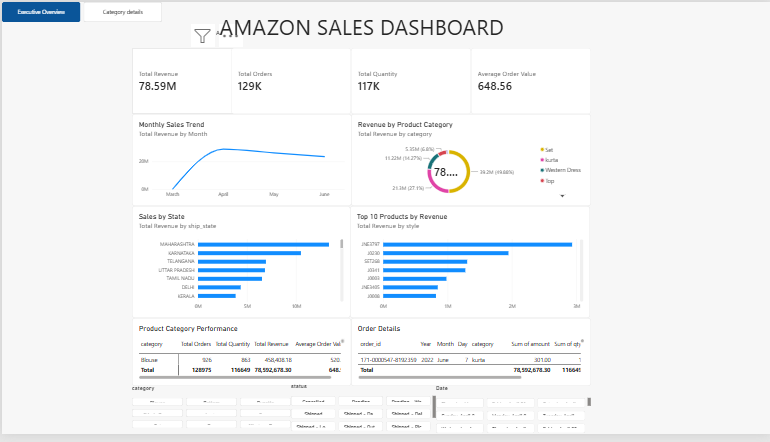

What the dashboard file says about the page in this screenshot:
{"tool":"powerbi","page":{"name":"Page 1","canvas":[1920,1080],"ordinal":0},"visuals":[{"type":"cardVisual","fields":{"Data":["Amazon_Sale_Cleaned.Total Revenue"]},"box":[325,115,280,165],"z":0},{"type":"cardVisual","fields":{"Data":["Amazon_Sale_Cleaned.Total Orders"]},"box":[572.5,115,300,165],"z":1000},{"type":"cardVisual","fields":{"Data":["Amazon_Sale_Cleaned.Total Quantity"]},"box":[872.5,115,300,165],"z":2000},{"type":"cardVisual","fields":{"Data":["Amazon_Sale_Cleaned.Average Order Value"]},"box":[1172.5,115,300,165],"z":3000},{"type":"clusteredBarChart","title":"Revenue by Product Category","fields":{"Category":["Amazon_Sale_Cleaned.category"],"Y":["Amazon_Sale_Cleaned.Total Revenue"]},"box":[325,510,547.5,280],"z":4000},{"type":"lineChart","title":"Monthly Sales Trend","fields":{"Category":["Amazon_Sale_Cleaned.date.Variation.Date Hierarchy.Month"],"Y":["Amazon_Sale_Cleaned.Total Revenue"]},"box":[325,280,1147.5,230],"z":4001},{"type":"donutChart","title":"Order Status Distribution","fields":{"Category":["Amazon_Sale_Cleaned.status"],"Y":["Amazon_Sale_Cleaned.Total Orders"]},"box":[872.5,510,600,280],"z":4002},{"type":"tableEx","title":"Order Details","fields":{"Values":["Amazon_Sale_Cleaned.order_id","Amazon_Sale_Cleaned.date.Variation.Date Hierarchy.Year","Amazon_Sale_Cleaned.date.Variation.Date Hierarchy.Month","Amazon_Sale_Cleaned.date.Variation.Date Hierarchy.Day","Amazon_Sale_Cleaned.category","Sum(Amazon_Sale_Cleaned.amount)","Sum(Amazon_Sale_Cleaned.qty)","Amazon_Sale_Cleaned.status"]},"box":[872.5,790,600,170],"z":4003},{"type":"pivotTable","title":"Product Category Performance","fields":{"Rows":["Amazon_Sale_Cleaned.category"],"Values":["Amazon_Sale_Cleaned.Total Orders","Amazon_Sale_Cleaned.Total Quantity","Amazon_Sale_Cleaned.Total Revenue","Amazon_Sale_Cleaned.Average Order Value"]},"box":[325,790,547.5,170],"z":4004},{"type":"advancedSlicerVisual","fields":{"Label":["CountNonNull(Amazon_Sale_Cleaned.date.Variation.Date Hierarchy.Year)"],"Values":["Amazon_Sale_Cleaned.date"]},"box":[1085,950,387.5,127.5],"z":4005},{"type":"advancedSlicerVisual","fields":{"Values":["Amazon_Sale_Cleaned.category"]},"box":[325,957.5,397.5,110],"z":4006},{"type":"advancedSlicerVisual","fields":{"Values":["Amazon_Sale_Cleaned.status"]},"box":[722.5,952.5,362.5,122.5],"z":4007},{"type":"textbox","box":[535,25,740,117.5],"z":4008}]}

Visuals, with their boxes on the page's 1920x1080 design canvas (x1, y1, x2, y2). These are canvas units, not pixel positions in the 770x442 screenshot, which may show the page scaled, cropped or inside an application window:
cardVisual - Amazon_Sale_Cleaned.Total Revenue: 325:115:605:280
cardVisual - Amazon_Sale_Cleaned.Total Orders: 572:115:872:280
cardVisual - Amazon_Sale_Cleaned.Total Quantity: 872:115:1172:280
cardVisual - Amazon_Sale_Cleaned.Average Order Value: 1172:115:1472:280
"Revenue by Product Category" clusteredBarChart: 325:510:872:790
"Monthly Sales Trend" lineChart: 325:280:1472:510
"Order Status Distribution" donutChart: 872:510:1472:790
"Order Details" tableEx: 872:790:1472:960
"Product Category Performance" pivotTable: 325:790:872:960
advancedSlicerVisual - CountNonNull(Amazon_Sale_Cleaned.date.Variation.Date Hierarchy.Year) x Amazon_Sale_Cleaned.date: 1085:950:1472:1078
advancedSlicerVisual - Amazon_Sale_Cleaned.category: 325:958:722:1068
advancedSlicerVisual - Amazon_Sale_Cleaned.status: 722:952:1085:1075
textbox: 535:25:1275:142
